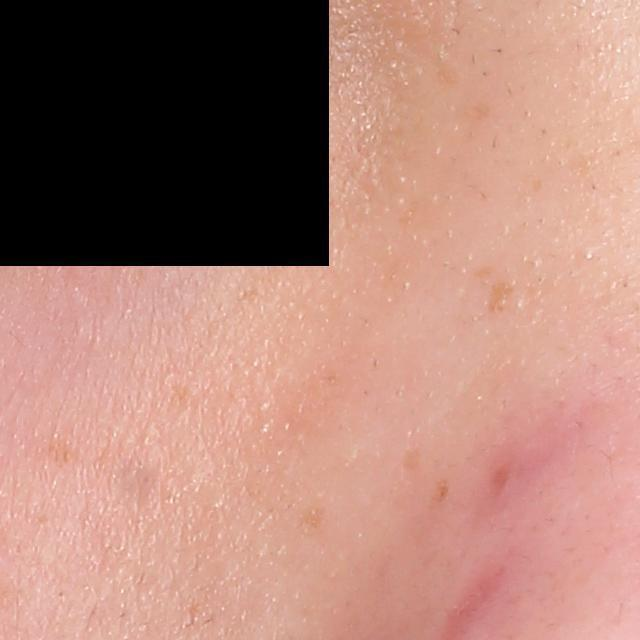melasma: (301, 505, 328, 536)
